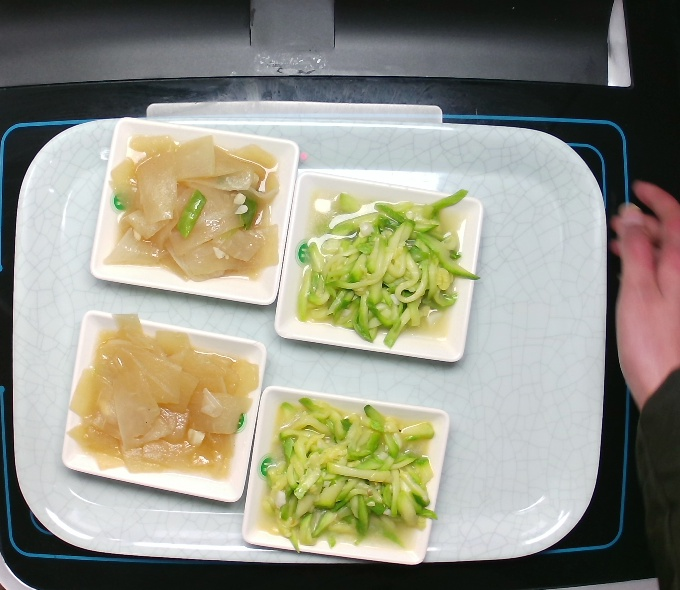wcq-LuoBo: (56, 307, 268, 483), (95, 121, 287, 286)
wcq-NenNanGua: (285, 180, 482, 360), (248, 391, 441, 560)
